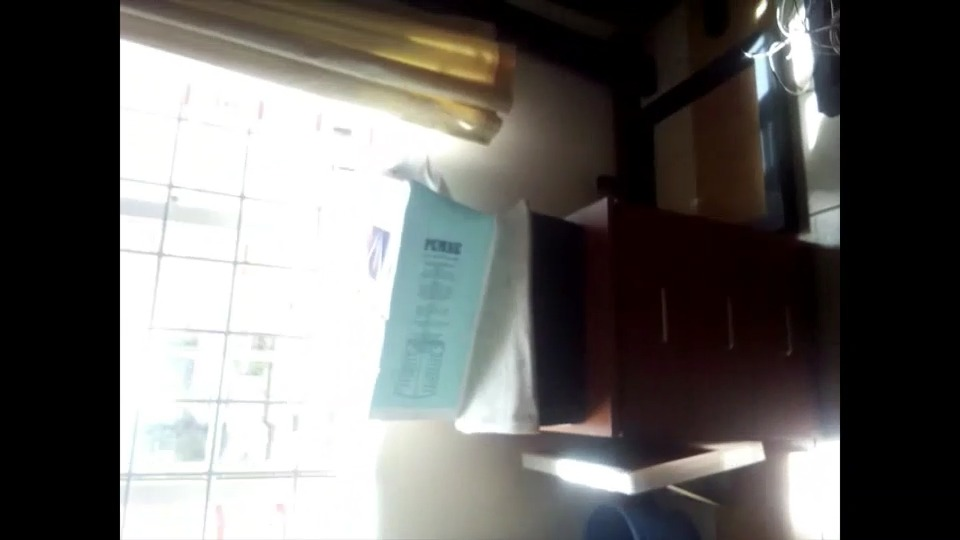wheat_flour_blue_label: (360, 175, 497, 430)
